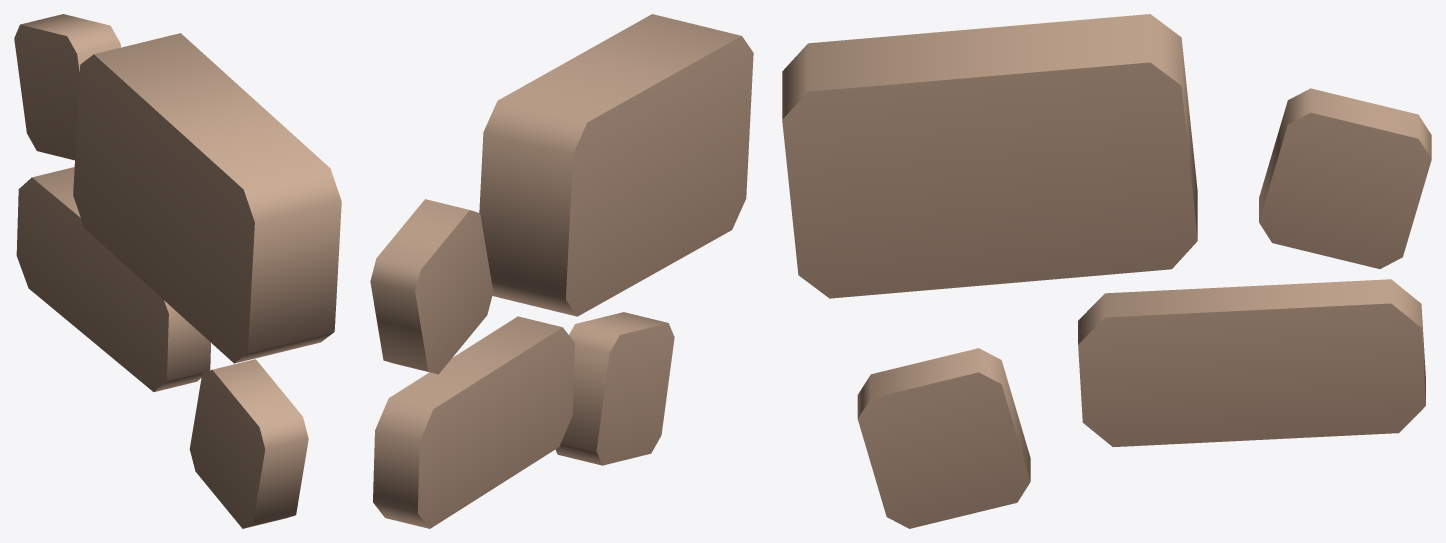
File: brick-assorted-small (%wall).glb
3 views of the same model, side by side, from view 1: azimuth 30°, elevation 25°; view 2: azimuth 150°, elevation 25°; view 3: azimuth 270°, elevation 25° (orthographic). The views are drawn at different scales.
Visible parts, largest first — view 1: brick-assorted-small (%wall); view 2: brick-assorted-small (%wall); view 3: brick-assorted-small (%wall).
Boxes of the visible parts, bbox=[...] form: brick-assorted-small (%wall): bbox=[14, 14, 341, 528]; brick-assorted-small (%wall): bbox=[370, 14, 753, 528]; brick-assorted-small (%wall): bbox=[782, 14, 1431, 528].
Size of the model in its own units: 0.1 by 0.4491 by 0.5667.
